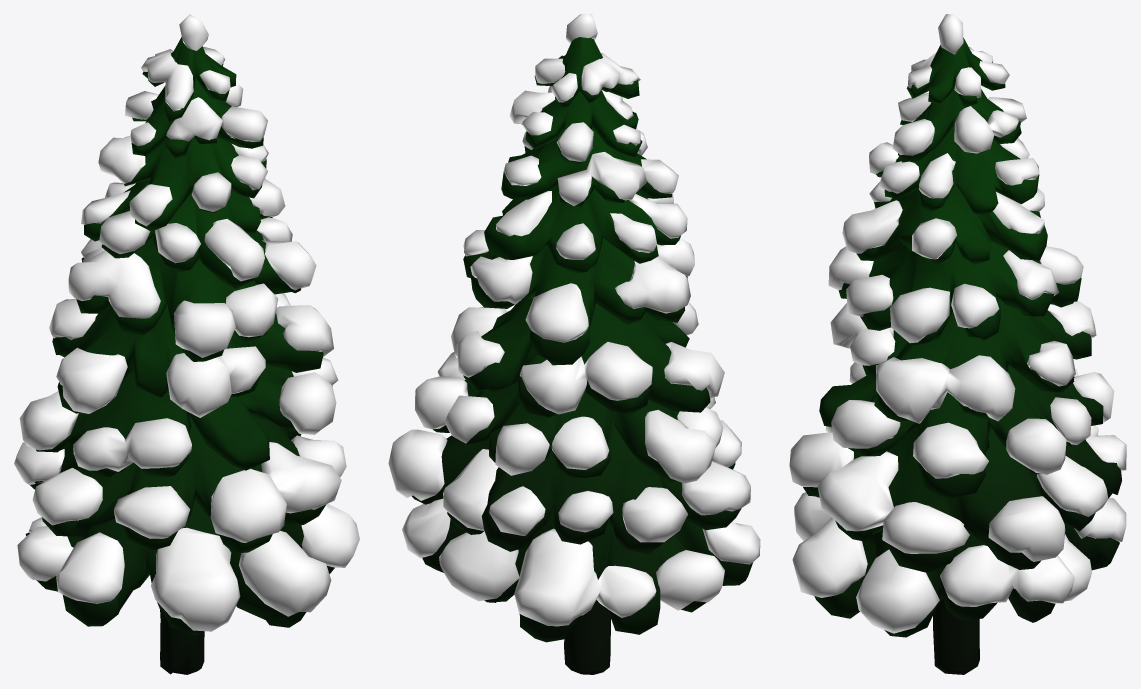
File: Fir01.fbx
The picture shows the model from 3 angles, left to right: view 1: azimuth 30°, elevation 25°; view 2: azimuth 150°, elevation 25°; view 3: azimuth 270°, elevation 25°; orthographic projection.
Visible parts, largest first — view 1: Fir01_Tree, Fir01_Snow01, Fir01_Snow02, Fir01_Snow03; view 2: Fir01_Tree, Fir01_Snow01, Fir01_Snow02, Fir01_Snow03; view 3: Fir01_Tree, Fir01_Snow01, Fir01_Snow03, Fir01_Snow02.
Boxes of the visible parts, x1,y1,x2,y2 form: Fir01_Tree: [25, 37, 334, 674]; Fir01_Snow01: [14, 14, 359, 603]; Fir01_Snow02: [28, 52, 338, 631]; Fir01_Snow03: [17, 49, 346, 581]; Fir01_Tree: [412, 37, 752, 674]; Fir01_Snow01: [388, 14, 760, 601]; Fir01_Snow02: [402, 53, 750, 626]; Fir01_Snow03: [443, 73, 724, 610]; Fir01_Tree: [803, 37, 1121, 674]; Fir01_Snow01: [825, 14, 1126, 633]; Fir01_Snow03: [789, 61, 1108, 553]; Fir01_Snow02: [792, 47, 1126, 606].
Size of the model in its own units: 0.9719 by 1.98 by 0.9194.
